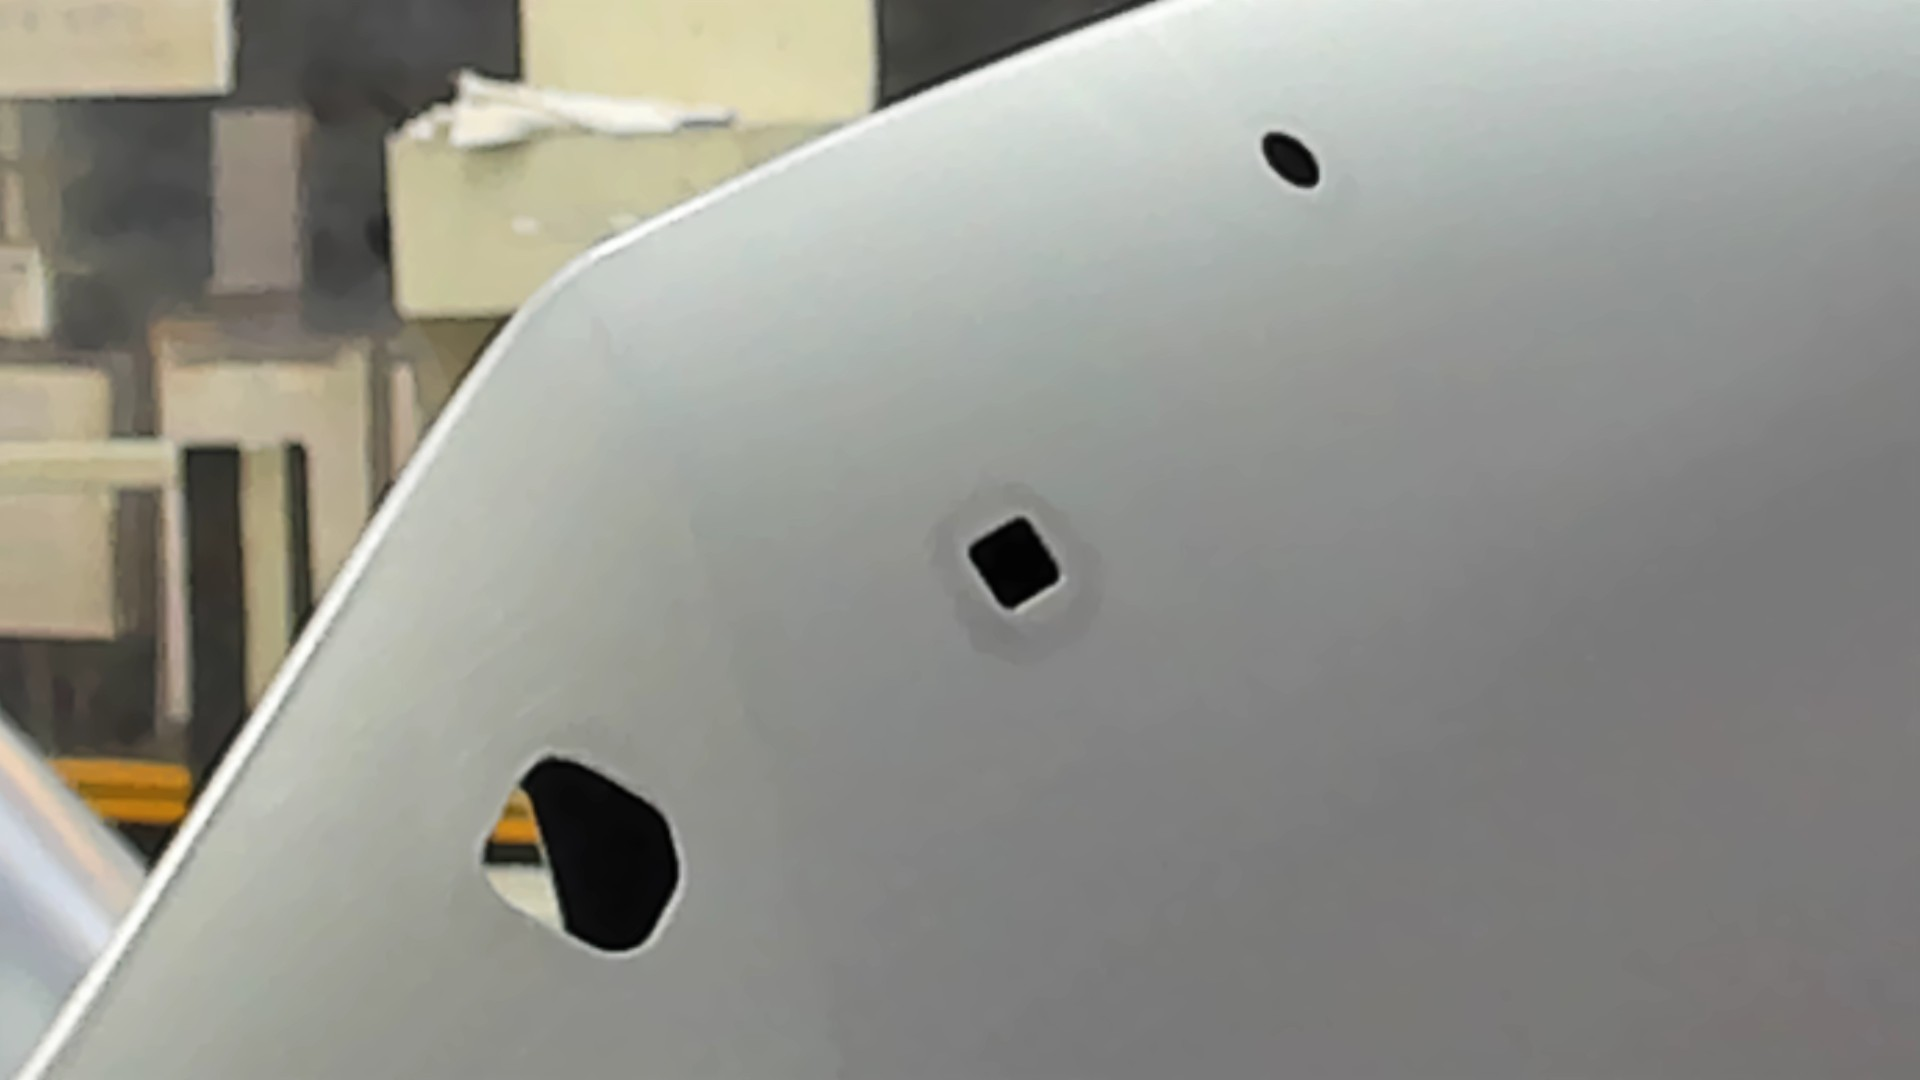chico: (1254, 124, 1328, 196)
grande: (475, 745, 692, 964)
mediano: (957, 508, 1069, 620)
